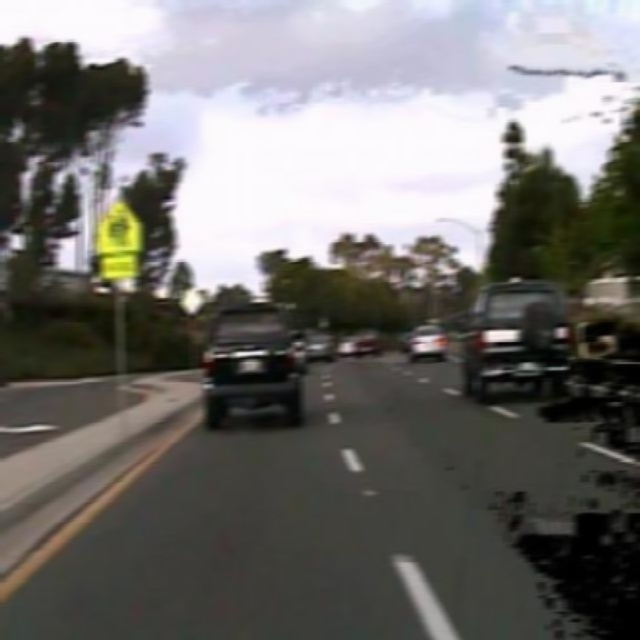school: (95, 195, 140, 253)
